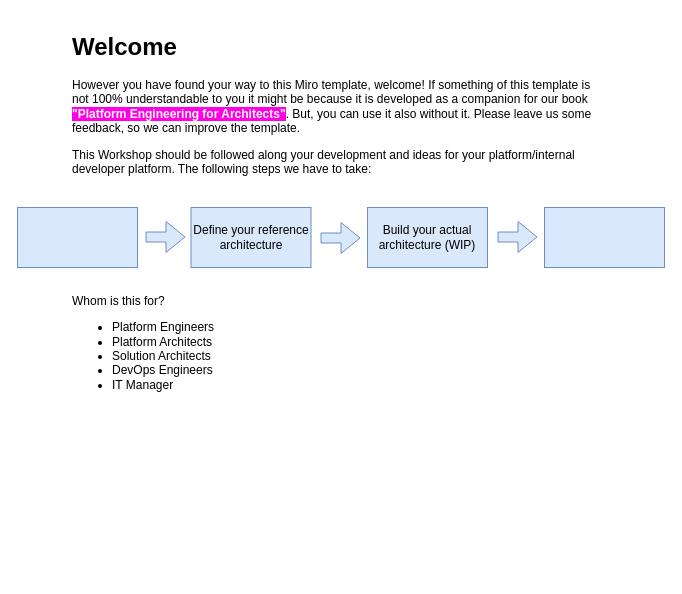
Some shapes in this 682 by 594 pixel diagram are drawn without their labels. The shapes that lost their labels are listed below. From the top down, each one's box as (x1, y1, x2, y2) in pixels, then its label:
(16, 206, 138, 268): Gather the input for taking decisions
(544, 206, 664, 268): Incorporate the control flow (WIP)
